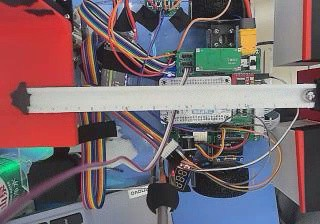ironball: (305, 89, 314, 102)
